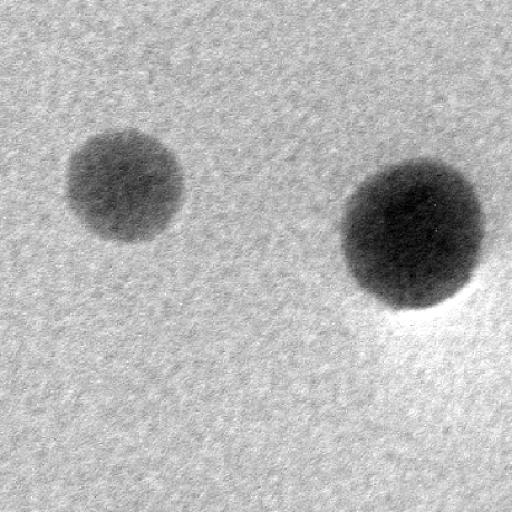Nanoparticles: (339, 155, 486, 315), (64, 126, 188, 247)
